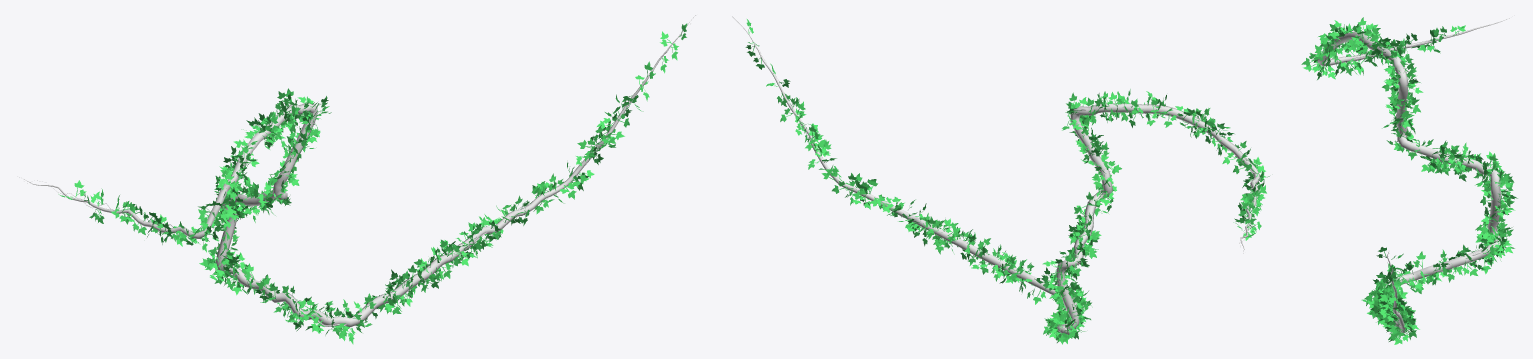
Rendered from VineDeco3.fbx.
3 views of the same model, side by side, from view 1: azimuth 30°, elevation 25°; view 2: azimuth 150°, elevation 25°; view 3: azimuth 270°, elevation 25° (orthographic). The views are drawn at different scales.
Visible parts, largest first — view 1: BézierCurve.017; view 2: BézierCurve.017; view 3: BézierCurve.017.
Boxes of the visible parts, <box> form: BézierCurve.017: <box>19,15,695,344</box>; BézierCurve.017: <box>732,16,1269,344</box>; BézierCurve.017: <box>1301,16,1517,344</box>.
Bounding box in the file's own units: 2847 × 1123 × 886.
